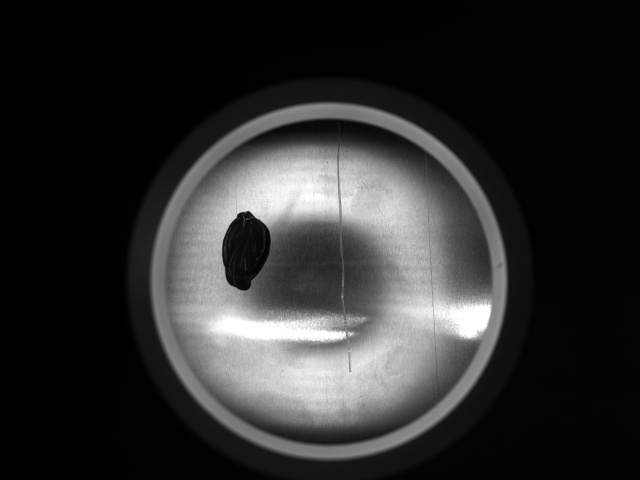ca_shang: (334, 127, 353, 372), (424, 151, 443, 396)
zang_wu: (221, 208, 273, 294)
